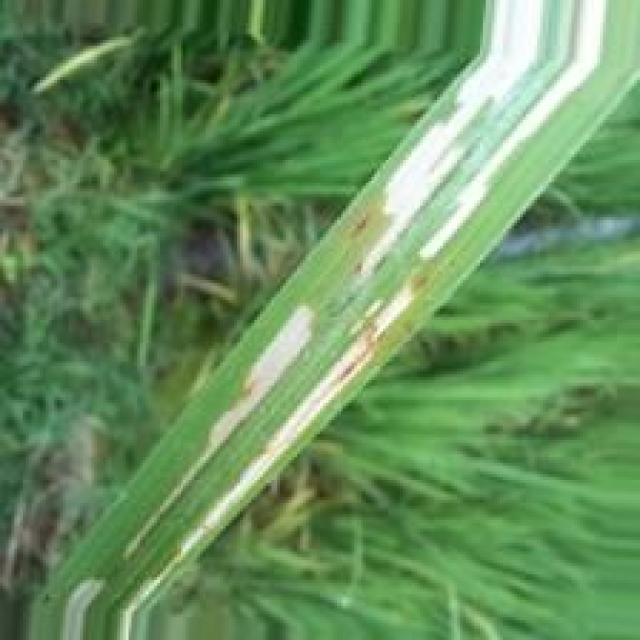Rice_Hispa: (118, 272, 422, 638), (361, 2, 549, 276), (416, 0, 610, 260), (127, 297, 313, 555)
